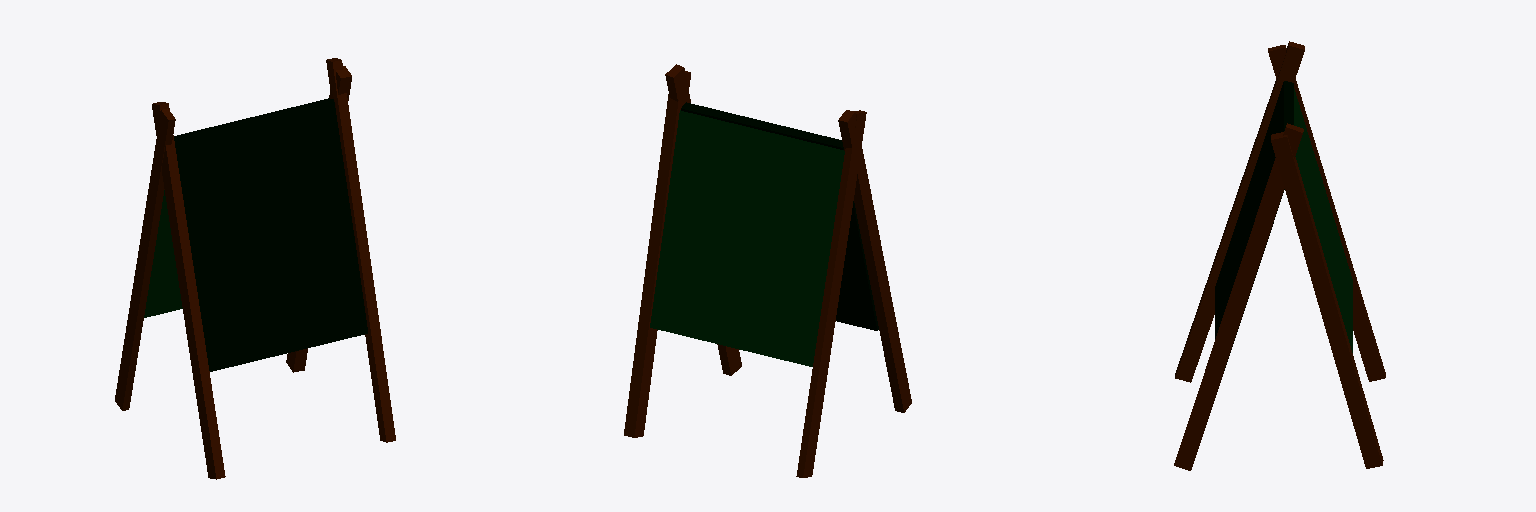
Rendered from board.obj.
The picture shows the model from 3 angles: view 1: azimuth 30°, elevation 25°; view 2: azimuth 150°, elevation 25°; view 3: azimuth 270°, elevation 25°; orthographic projection.
Visible parts, largest first — view 1: 立方体, 立方体.002, 立方体.001, 立方体.003, 立方体.005, 立方体.004; view 2: 立方体.005, 立方体.003, 立方体.004, 立方体.002, 立方体, 立方体.001; view 3: 立方体.004, 立方体.001, 立方体.002, 立方体, 立方体.005, 立方体.003.
Part boxes in pixels (left/top/right/bottom): 立方体: left=174, top=98, right=367, bottom=371; 立方体.002: left=152, top=102, right=225, bottom=479; 立方体.001: left=326, top=58, right=395, bottom=442; 立方体.003: left=115, top=109, right=175, bottom=410; 立方体.005: left=144, top=190, right=182, bottom=317; 立方体.004: left=286, top=66, right=351, bottom=372; 立方体.005: left=650, top=110, right=844, bottom=366; 立方体.003: left=796, top=110, right=866, bottom=477; 立方体.004: left=624, top=71, right=690, bottom=437; 立方体.002: left=838, top=110, right=911, bottom=412; 立方体: left=681, top=102, right=878, bottom=330; 立方体.001: left=665, top=64, right=741, bottom=375; 立方体.004: left=1271, top=132, right=1383, bottom=468; 立方体.001: left=1174, top=123, right=1303, bottom=470; 立方体.002: left=1175, top=41, right=1304, bottom=382; 立方体: left=1215, top=81, right=1293, bottom=370; 立方体.005: left=1294, top=89, right=1352, bottom=352; 立方体.003: left=1268, top=45, right=1385, bottom=381.
Bounding box in the file's own units: 4.73 × 8.36 × 4.68.